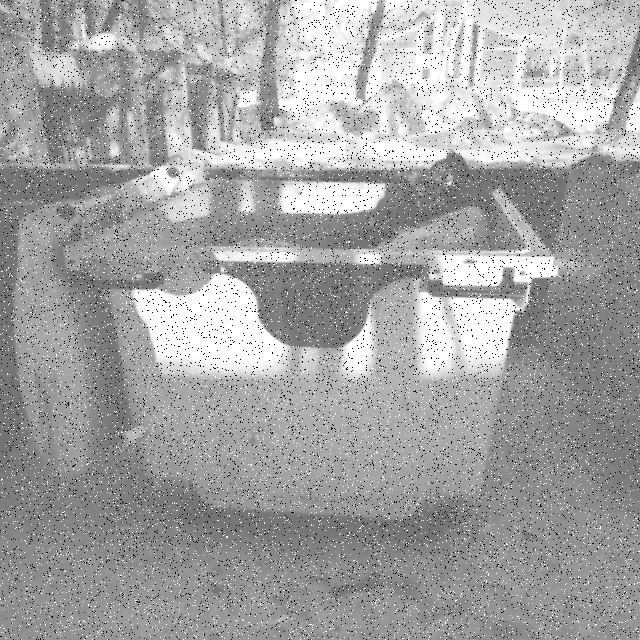Trashcan: (23, 114, 589, 550)
